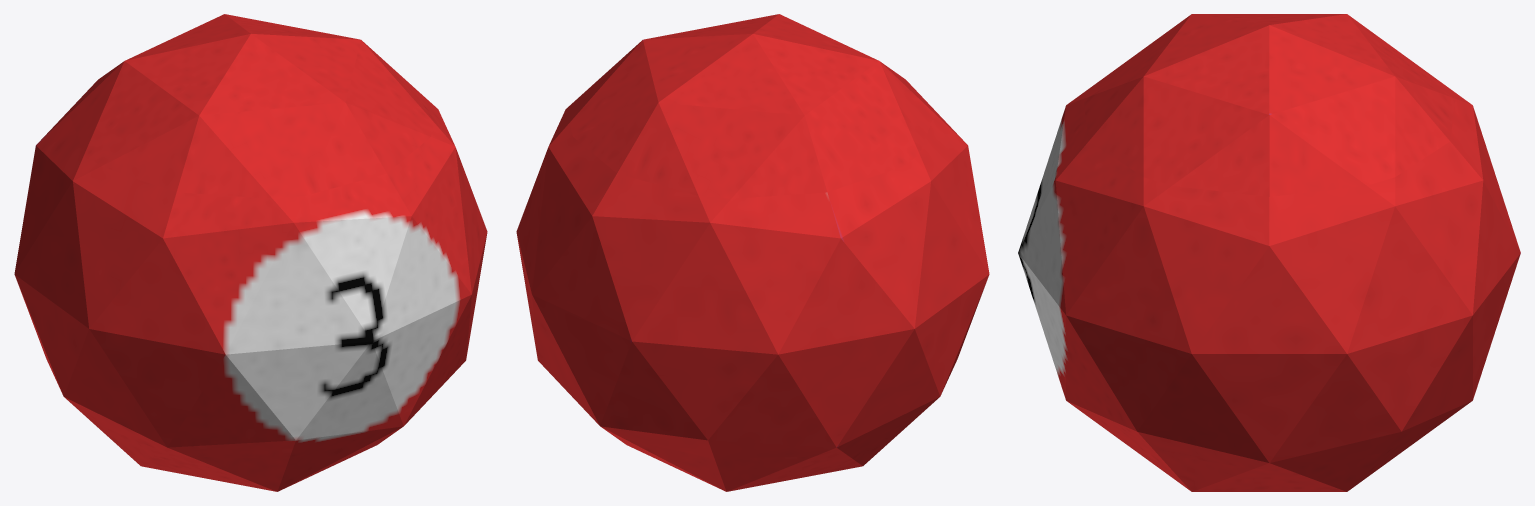
The model's file is pool_ball_3.obj.
3 renders of one model, left to right at view 1: azimuth 30°, elevation 25°; view 2: azimuth 150°, elevation 25°; view 3: azimuth 270°, elevation 25°, orthographic. The views are drawn at different scales.
Parts seen in each view (by area): view 1: PoolBall_03; view 2: PoolBall_03; view 3: PoolBall_03.
Boxes of the visible parts, x1=… form: PoolBall_03: x1=14, y1=14, x2=487, y2=491; PoolBall_03: x1=516, y1=14, x2=989, y2=491; PoolBall_03: x1=1018, y1=14, x2=1520, y2=491.
Bounding box in the file's own units: 0.0709 × 0.0745 × 0.0745.
Materials: 1 (1 with a texture image).
